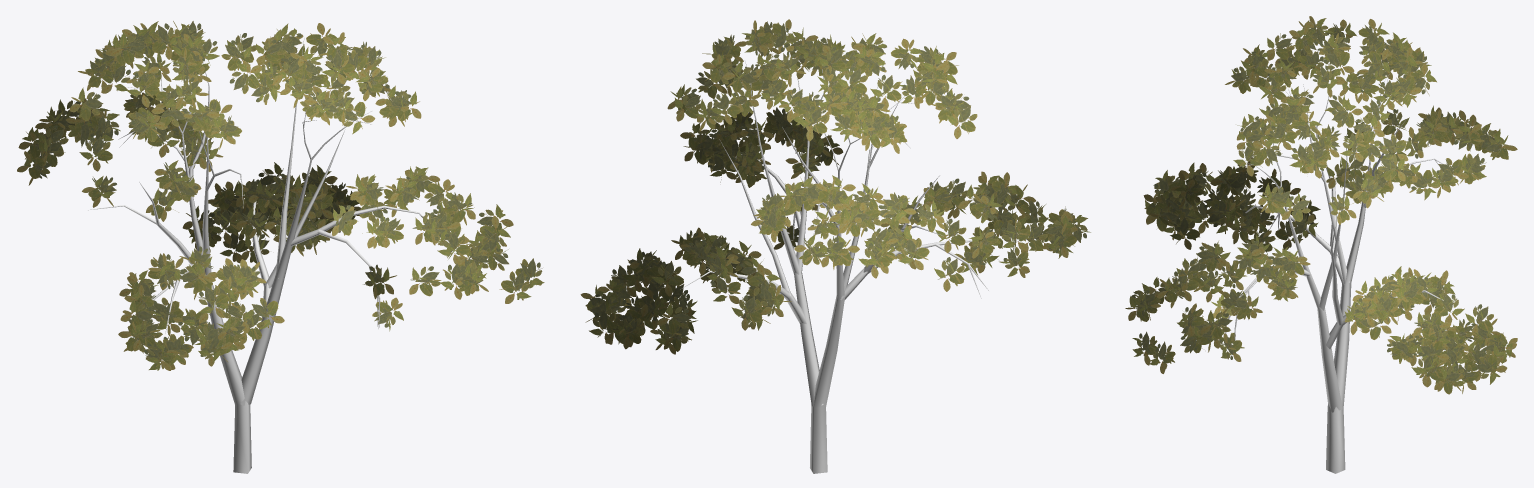
File: tree01.fbx
3 views of the same model, side by side, from view 1: azimuth 30°, elevation 25°; view 2: azimuth 150°, elevation 25°; view 3: azimuth 270°, elevation 25° (orthographic). The views are drawn at different scales.
Visible parts, largest first — view 1: foliage, trunk01; view 2: foliage, trunk01; view 3: foliage, trunk01.
Part boxes in pixels (box(x1,y1,x2,y2)): foliage: box(17, 21, 544, 370); trunk01: box(87, 38, 422, 473); foliage: box(580, 19, 1090, 354); trunk01: box(680, 54, 999, 473); foliage: box(1125, 16, 1517, 394); trunk01: box(1225, 74, 1453, 473).
Bounding box in the file's own units: 6.42 × 6.83 × 5.91.
